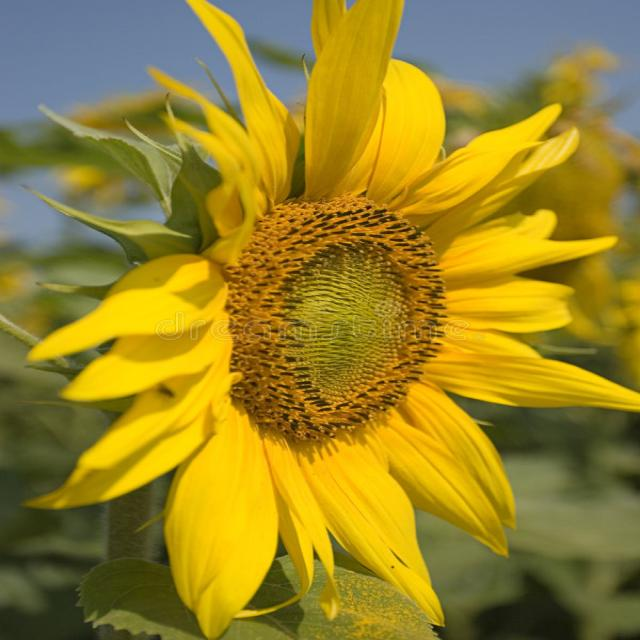sunflower: (21, 3, 639, 640)
